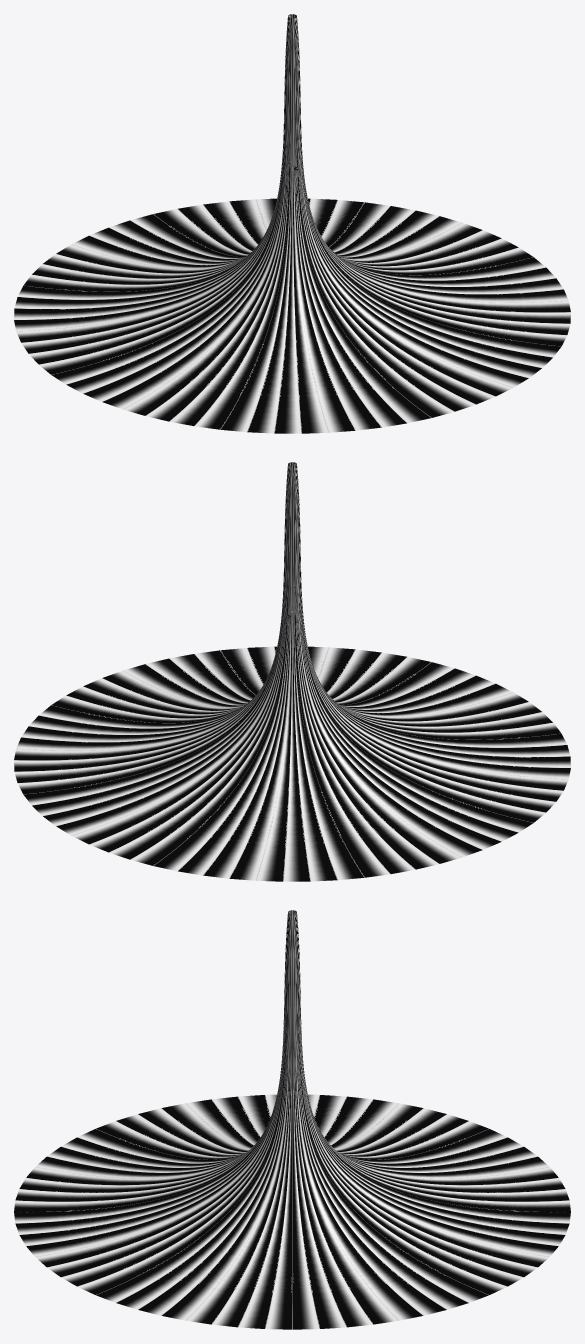
Rendered from background_cone_horizontal.fbx.
The picture shows the model from 3 angles, top to bottom: view 1: azimuth 30°, elevation 25°; view 2: azimuth 150°, elevation 25°; view 3: azimuth 270°, elevation 25°; orthographic projection.
Visible parts, largest first — view 1: nurbsToPoly28; view 2: nurbsToPoly28; view 3: nurbsToPoly28.
Part boxes in pixels (<box>): nurbsToPoly28: <box>14,14,570,433</box>; nurbsToPoly28: <box>14,462,570,881</box>; nurbsToPoly28: <box>14,910,570,1329</box>.
Bounding box in the file's own units: 16.73 × 9.94 × 16.73.
Materials: 1 (1 with a texture image).
